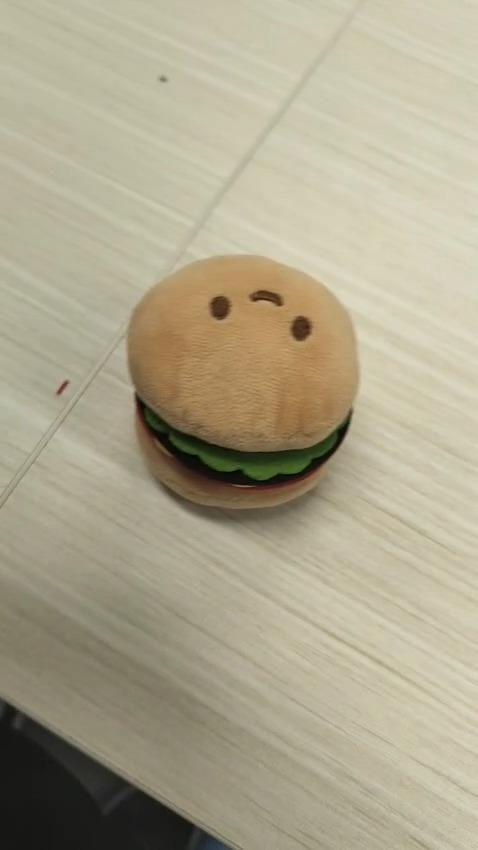hamburger: (125, 252, 360, 511)
